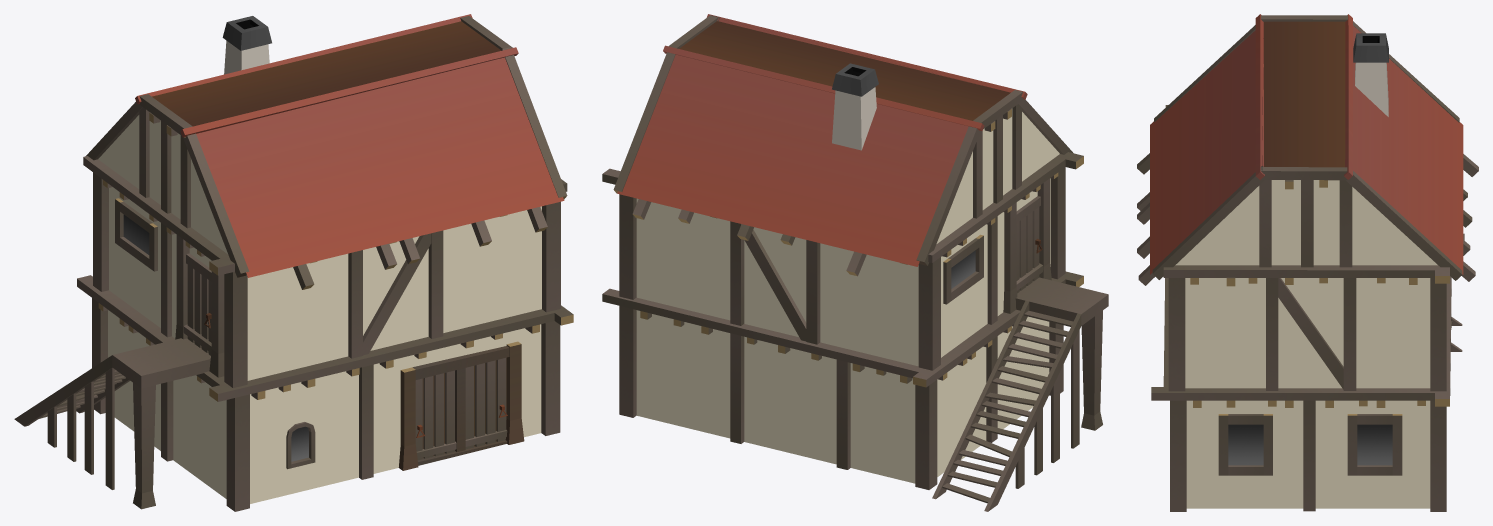
Rendered from House_10_LOD1.fbx.
3 views of the same model, side by side, from view 1: azimuth 30°, elevation 25°; view 2: azimuth 150°, elevation 25°; view 3: azimuth 270°, elevation 25° (orthographic). The views are drawn at different scales.
Visible parts, largest first — view 1: polySurface9619; view 2: polySurface9619; view 3: polySurface9619.
Boxes of the visible parts, x1,y1,x2,y2 form: polySurface9619: [14, 14, 573, 511]; polySurface9619: [602, 14, 1108, 511]; polySurface9619: [1137, 14, 1478, 511].
Bounding box in the file's own units: 968 × 861 × 716.
